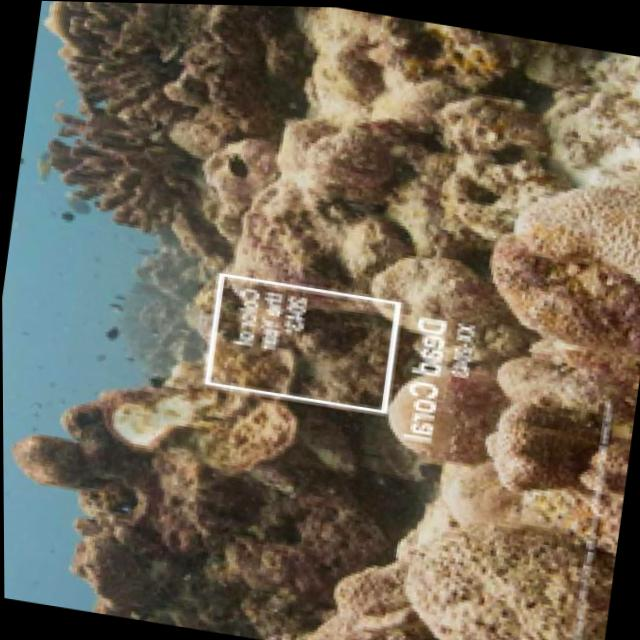Dead Coral: (2, 359, 318, 617), (240, 27, 493, 262), (468, 85, 640, 366), (355, 488, 588, 640), (50, 1, 279, 141)
